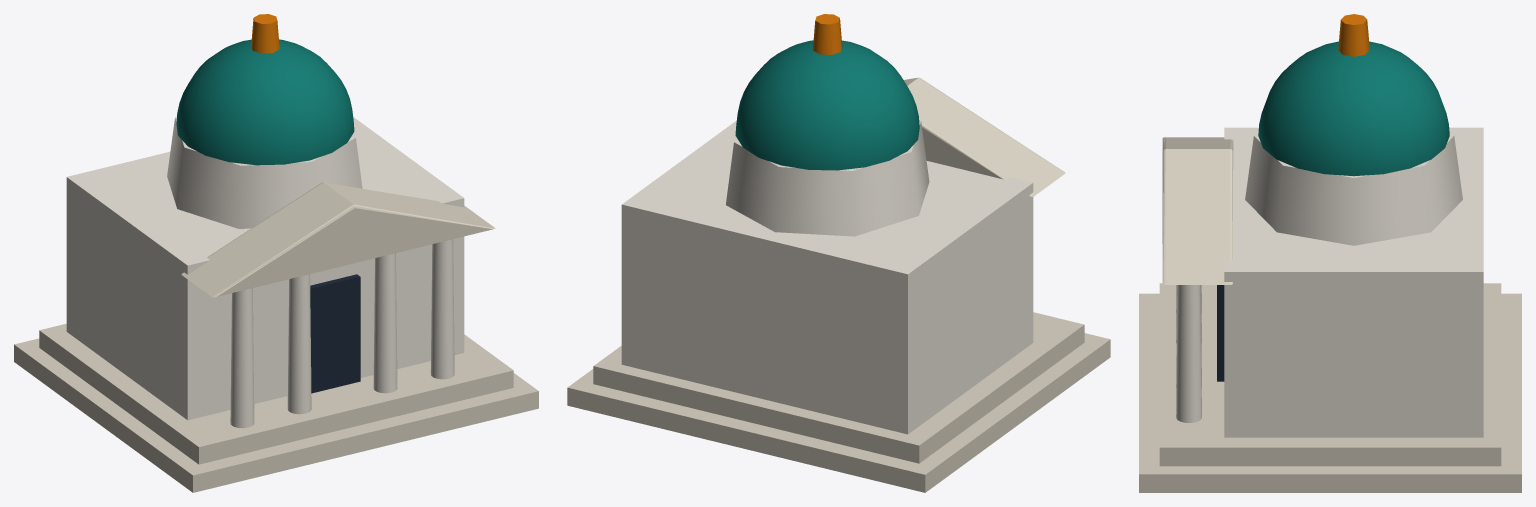
The model's file is civic_landmark.glb.
The picture shows the model from 3 angles, left to right: view 1: azimuth 30°, elevation 25°; view 2: azimuth 150°, elevation 25°; view 3: azimuth 270°, elevation 25°; orthographic projection. The views are drawn at different scales.
Parts seen in each view (by area): view 1: CivicLandmark; view 2: CivicLandmark; view 3: CivicLandmark.
Boxes of the visible parts, <box> form: CivicLandmark: <box>14,14,538,492</box>; CivicLandmark: <box>567,14,1110,492</box>; CivicLandmark: <box>1139,14,1521,492</box>.
Bounding box in the file's own units: 14.5 × 14.35 × 13.
